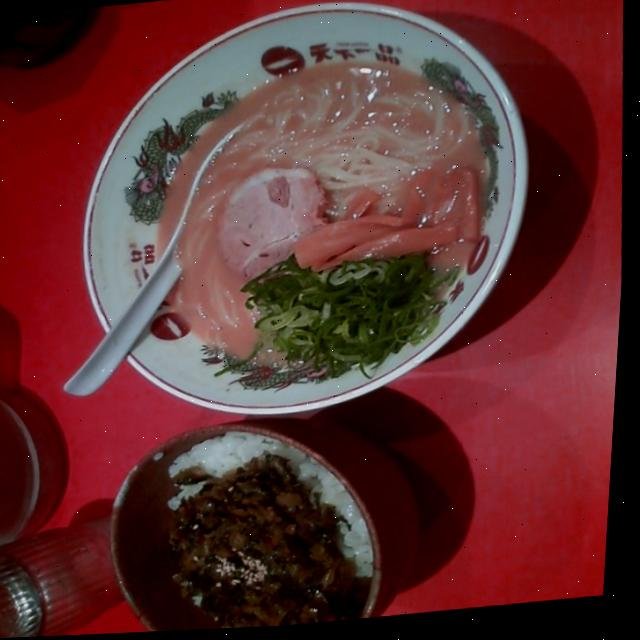面条主食: (123, 35, 517, 407)
